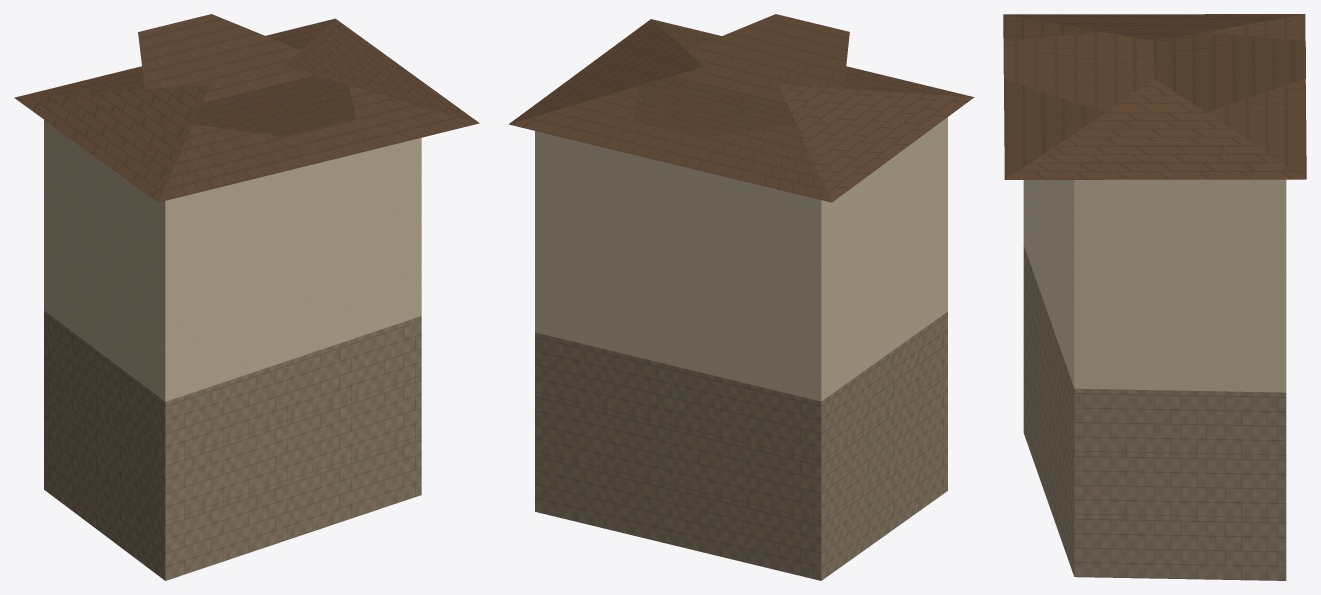
File: bld_c-25_22_691.gltf
The picture shows the model from 3 angles, left to right: view 1: azimuth 30°, elevation 25°; view 2: azimuth 150°, elevation 25°; view 3: azimuth 270°, elevation 25°; orthographic projection. The views are drawn at different scales.
Parts seen in each view (by area): view 1: bld_c-25_22_691; view 2: bld_c-25_22_691; view 3: bld_c-25_22_691.
Part boxes in pixels (x1=…): bld_c-25_22_691: x1=14, y1=14, x2=479, y2=580; bld_c-25_22_691: x1=508, y1=14, x2=974, y2=580; bld_c-25_22_691: x1=1003, y1=14, x2=1306, y2=580.
Bounding box in the file's own units: 9.64 × 12.1 × 7.44.
3 materials, 3 textured.
